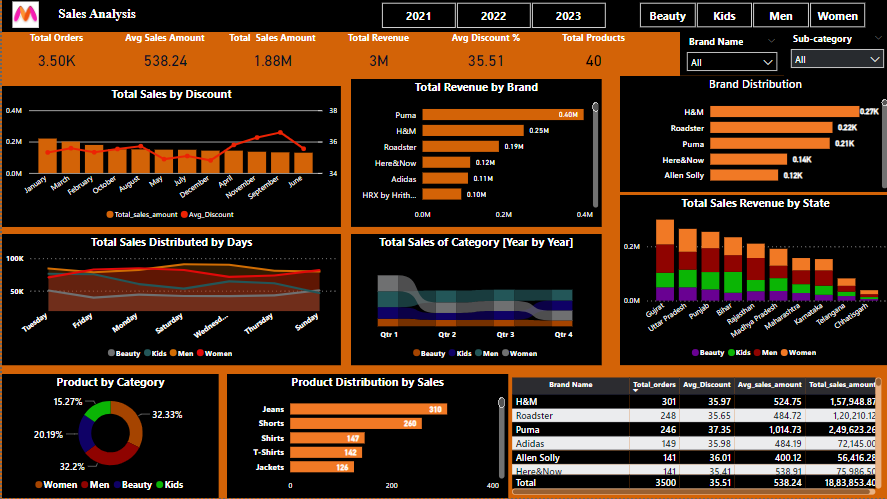

The page's visual inventory and layout, read from the dashboard file:
{"tool":"powerbi","page":{"name":"Final Dashboard","canvas":[1280,720],"ordinal":0},"visuals":[{"type":"shape","box":[0,1.4,1280.2,47.5],"z":0},{"type":"card","title":"Total Orders","fields":{"Values":["Measures_Table.Total_orders"]},"box":[0,47.5,157,69.1],"z":1000},{"type":"card","title":"Avg Sales Amount","fields":{"Values":["Measures_Table.Avg_sales_amount"]},"box":[157,47.5,155.5,69.1],"z":2000},{"type":"card","title":"Total  Sales Amount","fields":{"Values":["Measures_Table.Total_sales_amount"]},"box":[312.5,47.5,154.1,69.1],"z":3000},{"type":"card","title":"Total Revenue","fields":{"Values":["Measures_Table.Sum_original_price"]},"box":[468,47.5,148.3,69.1],"z":4000},{"type":"card","title":"Avg Discount %","fields":{"Values":["Measures_Table.Avg_Discount"]},"box":[616.3,47.5,161.3,69.1],"z":5000},{"type":"card","title":"Total Products","fields":{"Values":["Count(dim_products.Product Name)"]},"box":[777.6,47.5,148.3,69.1],"z":6000},{"type":"slicer","fields":{"Values":["Date_table.Date.Variation.Date Hierarchy.Year"]},"box":[521.3,0,371.5,50.4],"z":7000},{"type":"lineClusteredColumnComboChart","title":"Total Sales by Discount","fields":{"Y2":["Measures_Table.Avg_Discount"],"Category":["Date_table.Month_NAME"],"Y":["Measures_Table.Total_sales_amount"]},"box":[0,126.7,488.2,203],"z":8000},{"type":"barChart","title":"Total Revenue by Brand","fields":{"Category":["dim_products.Brand Name Hierarchy.Brand Name","dim_products.Brand Name Hierarchy.Product Name"],"Y":["Measures_Table.Sum_original_price"]},"box":[502.6,116.6,361.4,213.1],"z":9000},{"type":"areaChart","title":"Total Sales Distributed by Days","fields":{"Category":["Date_table.Day of Week"],"Y":["Measures_Table.Total_sales_amount"],"Series":["dim_products.Category"]},"box":[0,339.8,488.2,188.6],"z":10000},{"type":"donutChart","title":"Product by Category","fields":{"Y":["CountNonNull(dim_products.Product ID)"],"Category":["dim_products.Category"]},"box":[0,541.4,312.5,178.6],"z":11000},{"type":"barChart","title":"Brand Distribution","fields":{"Category":["dim_products.Brand Name"],"Y":["CountNonNull(dim_products.Brand Name)"]},"box":[889.9,112.3,390.2,167],"z":12000},{"type":"columnChart","title":"Total Sales Revenue by State","fields":{"Category":["dim_customers.State"],"Series":["dim_products.Category"],"Y":["Measures_Table.Total_sales_amount"]},"box":[889.9,283.7,390.2,244.8],"z":13000},{"type":"barChart","title":"Product Distribution by Sales","fields":{"Category":["dim_products.Product Name"],"Y":["CountNonNull(dim_products.Product Name)"]},"box":[324,541.4,404.6,178.6],"z":14000},{"type":"slicer","title":"Category","fields":{"Values":["dim_products.Category"]},"box":[892.8,0,374.4,49],"z":15000},{"type":"slicer","title":"Brand Name","fields":{"Values":["dim_products.Brand Name"]},"box":[976.3,49,149.8,63.4],"z":16000},{"type":"slicer","title":"Sub-Category","fields":{"Values":["dim_products.Sub-category"]},"box":[1126.1,44.6,154.1,67.7],"z":17000},{"type":"tableEx","fields":{"Values":["dim_products.Brand Name","Measures_Table.Total_orders","Measures_Table.Avg_Discount","Measures_Table.Avg_sales_amount","Measures_Table.Total_sales_amount"]},"box":[728.6,541.4,542.9,178.6],"z":19000},{"type":"ribbonChart","title":"Total Sales of Category [Year by Year]","fields":{"Category":["Date_table.Date.Variation.Date Hierarchy.Year","Date_table.Date.Variation.Date Hierarchy.Quarter","Date_table.Date.Variation.Date Hierarchy.Month","Date_table.Date.Variation.Date Hierarchy.Day"],"Series":["dim_products.Category"],"Y":["Sum(fact_orders.Sales Amount)"]},"box":[502.6,339.8,361.4,188.6],"z":20000},{"type":"image","box":[0,0,67.7,47.5],"z":21000},{"type":"textbox","box":[67.7,7.2,138.2,37.4],"z":22000}]}

Visuals, with their boxes in screenshot pixels (x1, y1, x2, y2), scaled from the page's 1280x720 canvas onto the 887x499 screenshot:
shape: l=0, t=1, r=886, b=34
"Total Orders" card: l=0, t=33, r=109, b=81
"Avg Sales Amount" card: l=109, t=33, r=217, b=81
"Total  Sales Amount" card: l=217, t=33, r=323, b=81
"Total Revenue" card: l=324, t=33, r=427, b=81
"Avg Discount %" card: l=427, t=33, r=539, b=81
"Total Products" card: l=539, t=33, r=642, b=81
slicer - Date_table.Date.Variation.Date Hierarchy.Year: l=361, t=0, r=619, b=35
"Total Sales by Discount" lineClusteredColumnComboChart: l=0, t=88, r=338, b=229
"Total Revenue by Brand" barChart: l=348, t=81, r=599, b=229
"Total Sales Distributed by Days" areaChart: l=0, t=236, r=338, b=366
"Product by Category" donutChart: l=0, t=375, r=217, b=498
"Brand Distribution" barChart: l=617, t=78, r=886, b=194
"Total Sales Revenue by State" columnChart: l=617, t=197, r=886, b=366
"Product Distribution by Sales" barChart: l=225, t=375, r=505, b=498
"Category" slicer: l=619, t=0, r=878, b=34
"Brand Name" slicer: l=677, t=34, r=780, b=78
"Sub-Category" slicer: l=780, t=31, r=886, b=78
tableEx - dim_products.Brand Name x Measures_Table.Total_orders: l=505, t=375, r=881, b=498
"Total Sales of Category [Year by Year]" ribbonChart: l=348, t=236, r=599, b=366
image: l=0, t=0, r=47, b=33
textbox: l=47, t=5, r=143, b=31
